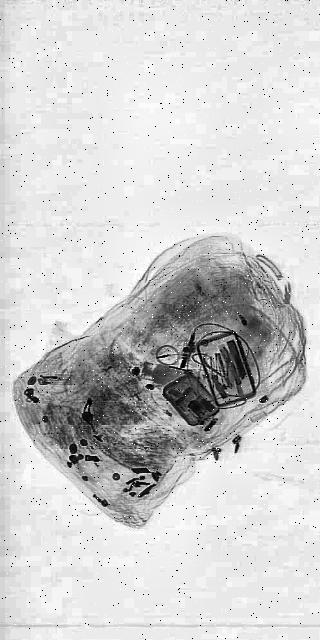Pliers: (201, 330, 239, 402)
